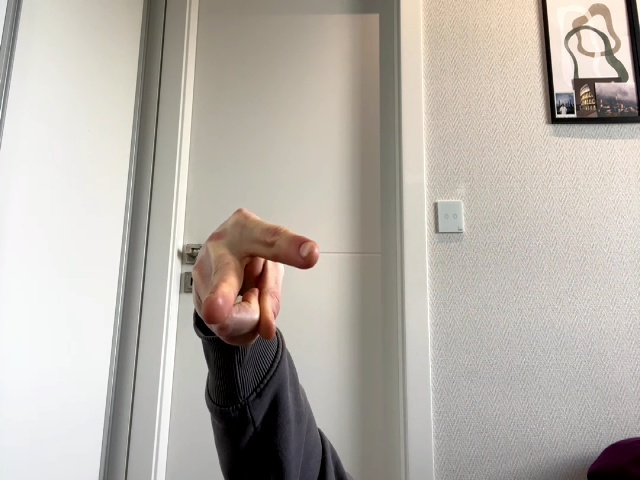U: (192, 209, 319, 345)
